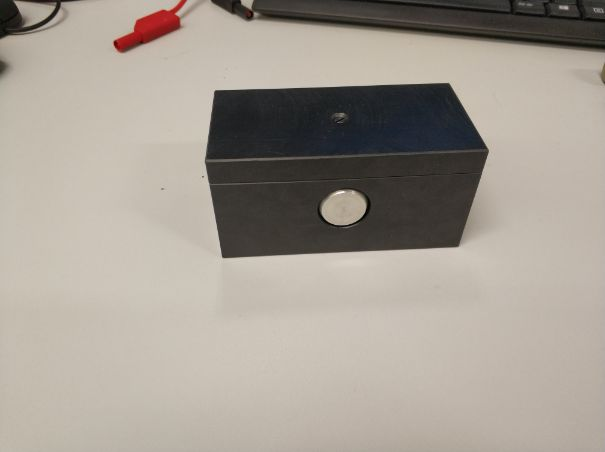black+black+silver: (200, 79, 495, 264)
